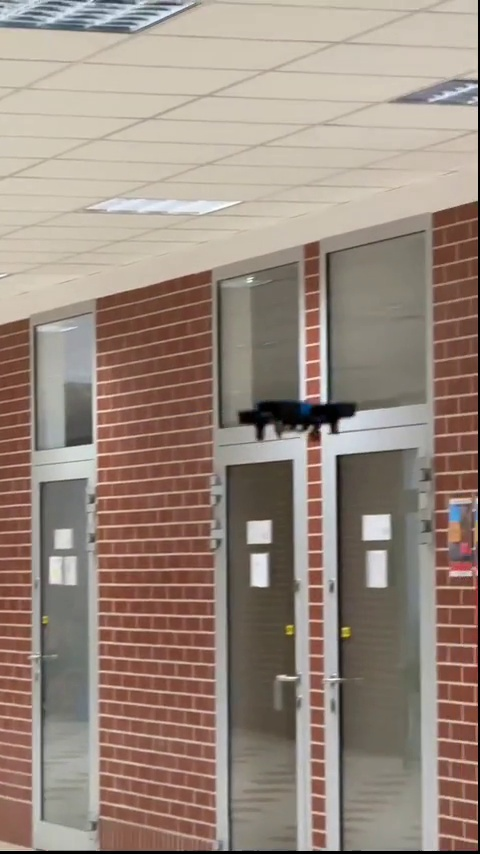drone: (238, 400, 358, 442)
